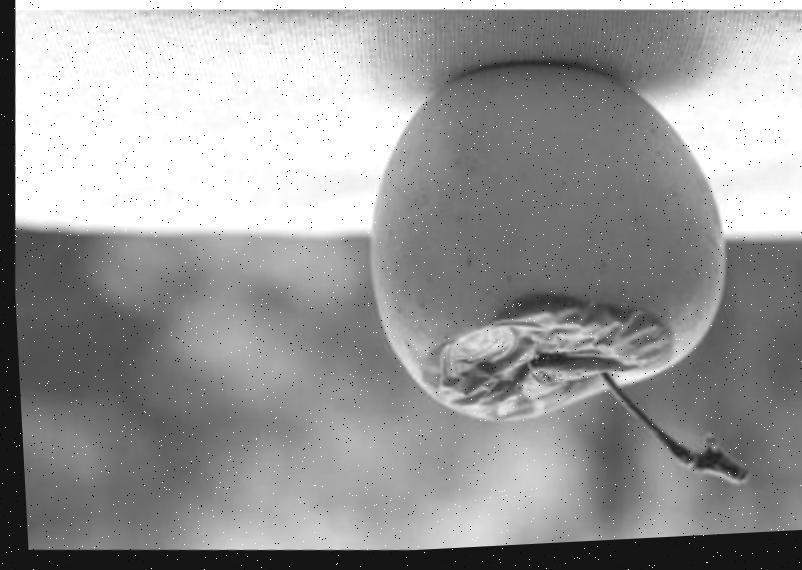ROT: (294, 23, 771, 472)
